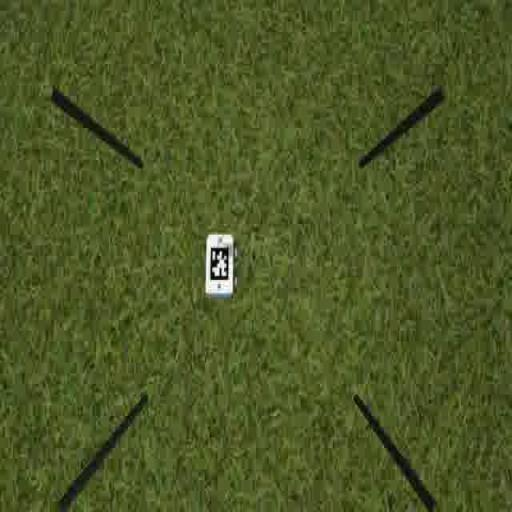UGV: (202, 234, 241, 301)
